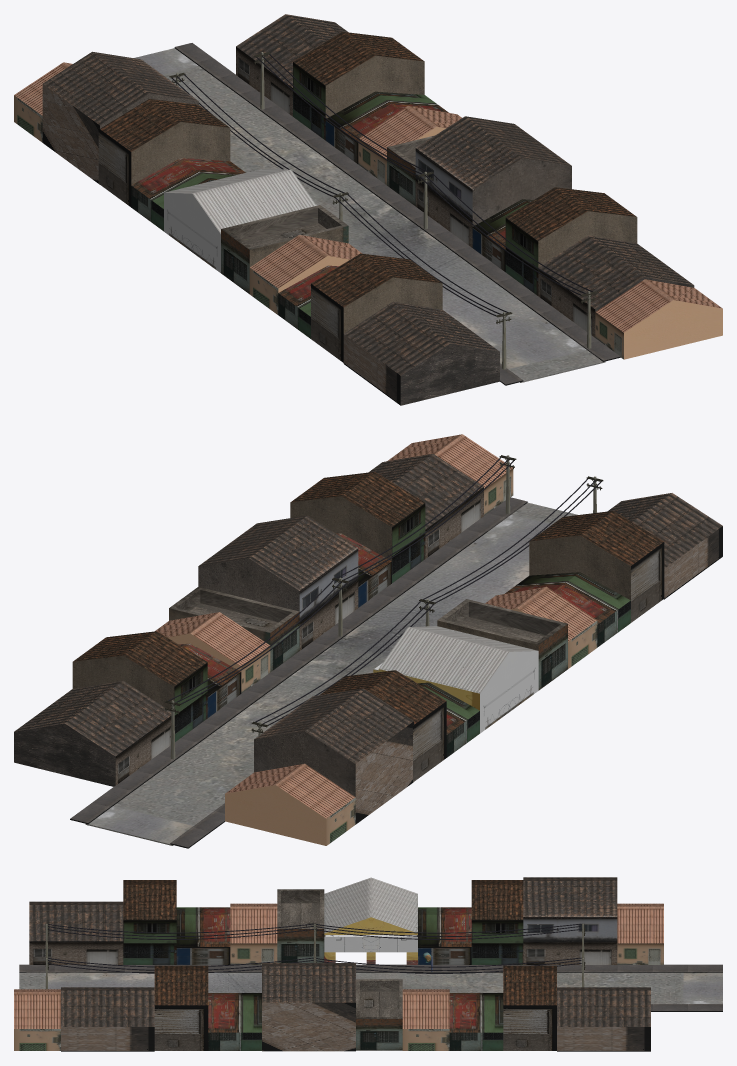
Rendered from PROP_rua_tamanho.glb.
3 renders of one model, top to bottom at view 1: azimuth 30°, elevation 25°; view 2: azimuth 150°, elevation 25°; view 3: azimuth 270°, elevation 25°, orthographic. The views are drawn at different scales.
Parts seen in each view (by area): view 1: rua, casa_18, casa_1, casa_6, casa_5, casa_14, calçada, bar, casa_2, casa_11, casa_15, casa_19 (+12 smaller); view 2: rua, casa_6, casa_18, casa_16, bar, calçada, casa_2, casa_11, casa_14, casa_9, casa_1, casa_19 (+12 smaller); view 3: rua, casa_18, casa_6, bar, casa_16, casa_19, casa_1, casa_11, casa_14, calçada, casa_2, casa_5 (+12 smaller).
Part boxes in pixels (box(x1,y1,x2,y2)): rua: box(133, 48, 605, 382); casa_18: box(415, 116, 571, 247); casa_1: box(343, 301, 499, 405); casa_6: box(42, 51, 198, 184); casa_5: box(98, 99, 230, 207); casa_14: box(293, 31, 424, 140); calçada: box(174, 43, 620, 385); bar: box(164, 168, 317, 272); casa_2: box(311, 253, 442, 362); casa_11: box(505, 187, 637, 295); casa_15: box(595, 279, 722, 359); casa_19: box(538, 235, 694, 337); rua: box(85, 502, 577, 845); casa_6: box(254, 688, 413, 824); casa_18: box(198, 515, 358, 650); casa_16: box(14, 680, 171, 786); bar: box(373, 626, 538, 733); calçada: box(70, 497, 527, 848); casa_2: box(529, 511, 664, 622); casa_11: box(290, 472, 425, 582); casa_14: box(72, 631, 207, 741); casa_9: box(225, 763, 355, 845); casa_1: box(607, 493, 722, 599); casa_19: box(368, 454, 483, 558); rua: box(19, 972, 722, 1003); casa_18: box(262, 963, 355, 1051); casa_6: box(523, 877, 617, 964); bar: box(324, 877, 417, 964); casa_16: box(557, 987, 650, 1051); casa_19: box(61, 987, 154, 1051); casa_1: box(29, 901, 123, 964); casa_11: box(154, 965, 208, 1050); casa_14: box(503, 965, 556, 1050); calçada: box(19, 964, 722, 1011); casa_2: box(123, 880, 176, 964); casa_5: box(471, 880, 523, 964).
Bounding box in the file's own units: 44.22 × 10.86 × 106.
11 materials, 9 textured.
